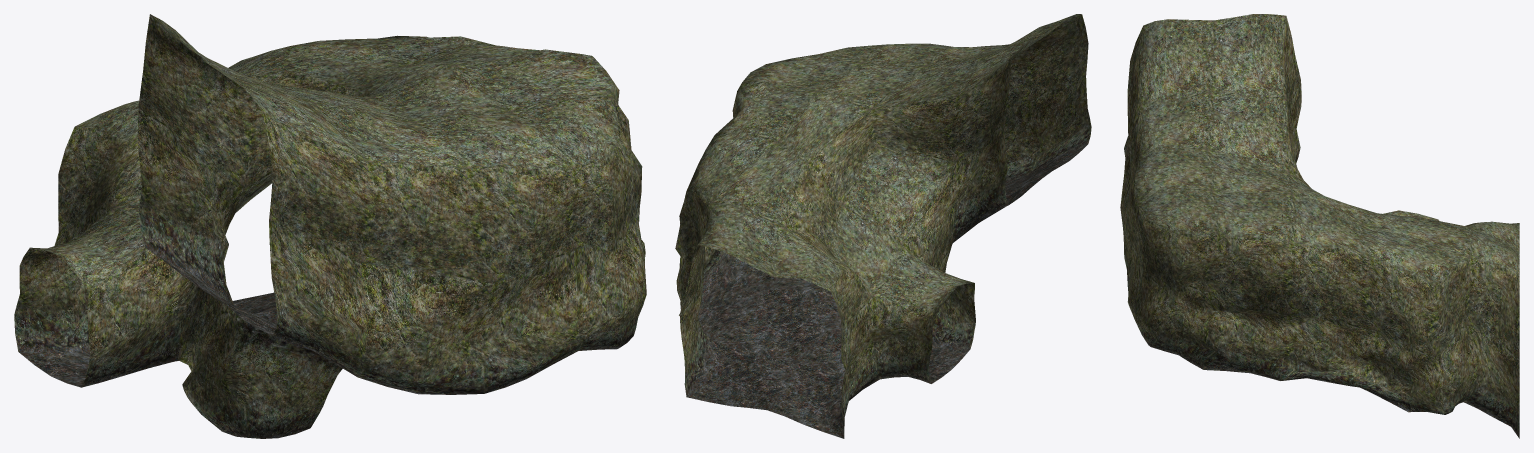
Rendered from thm_all_cave_s02_damprock_r3_mesh_r3.fbx.
The picture shows the model from 3 angles, left to right: view 1: azimuth 30°, elevation 25°; view 2: azimuth 150°, elevation 25°; view 3: azimuth 270°, elevation 25°; orthographic projection. The views are drawn at different scales.
Parts seen in each view (by area): view 1: mesh_node; view 2: mesh_node; view 3: mesh_node.
Part boxes in pixels (x1,y1,x2,y2): mesh_node: [14, 14, 646, 438]; mesh_node: [675, 14, 1091, 438]; mesh_node: [1120, 14, 1519, 438].
Bounding box in the file's own units: 41.68 × 44.73 × 50.2.
